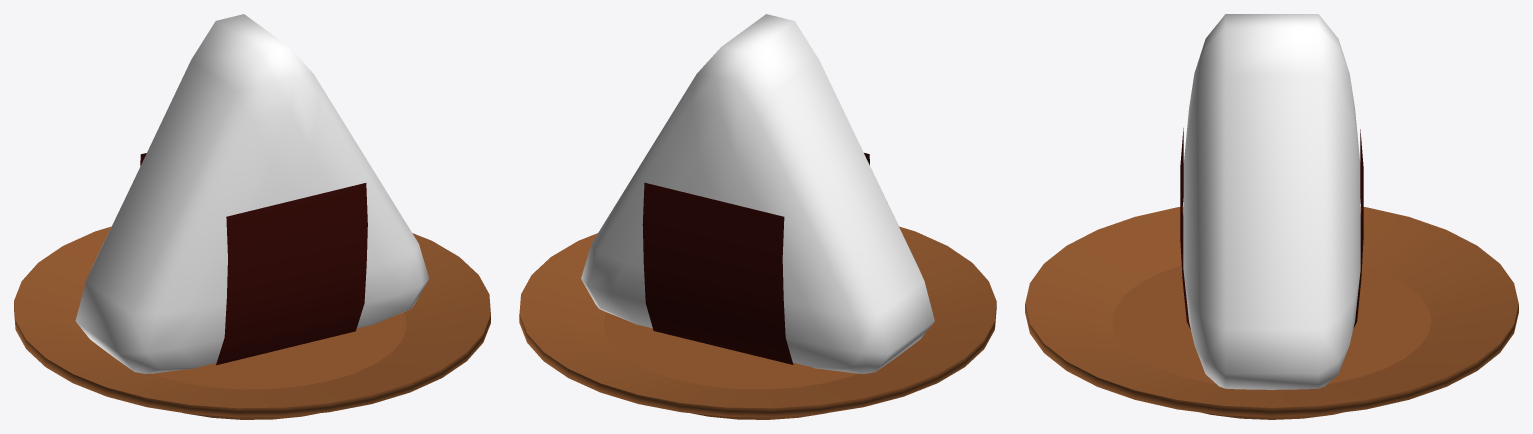
Rendered from HP_item.fbx.
The picture shows the model from 3 angles, left to right: view 1: azimuth 30°, elevation 25°; view 2: azimuth 150°, elevation 25°; view 3: azimuth 270°, elevation 25°; orthographic projection. The views are drawn at different scales.
Visible parts, largest first — view 1: Cube, Cylinder; view 2: Cube, Cylinder; view 3: Cube, Cylinder.
Part boxes in pixels (x1,y1,x2,y2): Cube: [75, 14, 429, 373]; Cylinder: [14, 226, 490, 419]; Cube: [581, 14, 934, 373]; Cylinder: [519, 226, 996, 419]; Cube: [1180, 14, 1363, 389]; Cylinder: [1025, 207, 1518, 419].
Size of the model in its own units: 96.99 by 71.83 by 96.99.
